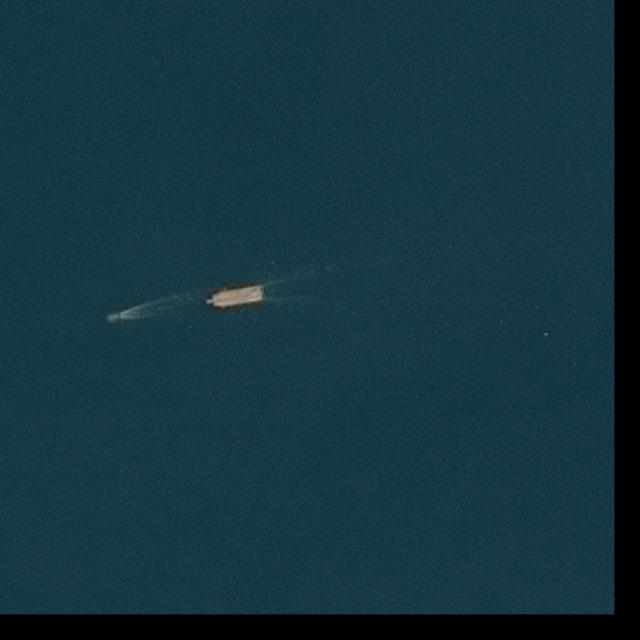ship: (204, 284, 266, 310), (105, 314, 118, 321)
